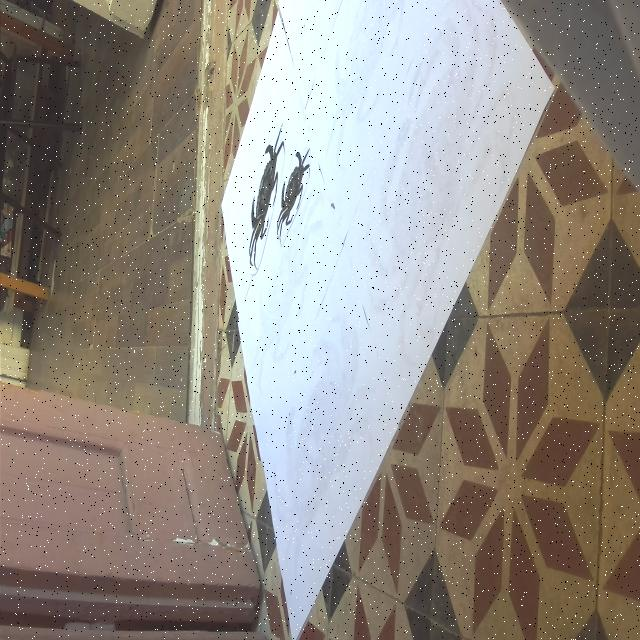European_Green_Crab: (239, 115, 292, 273), (266, 140, 318, 242)
